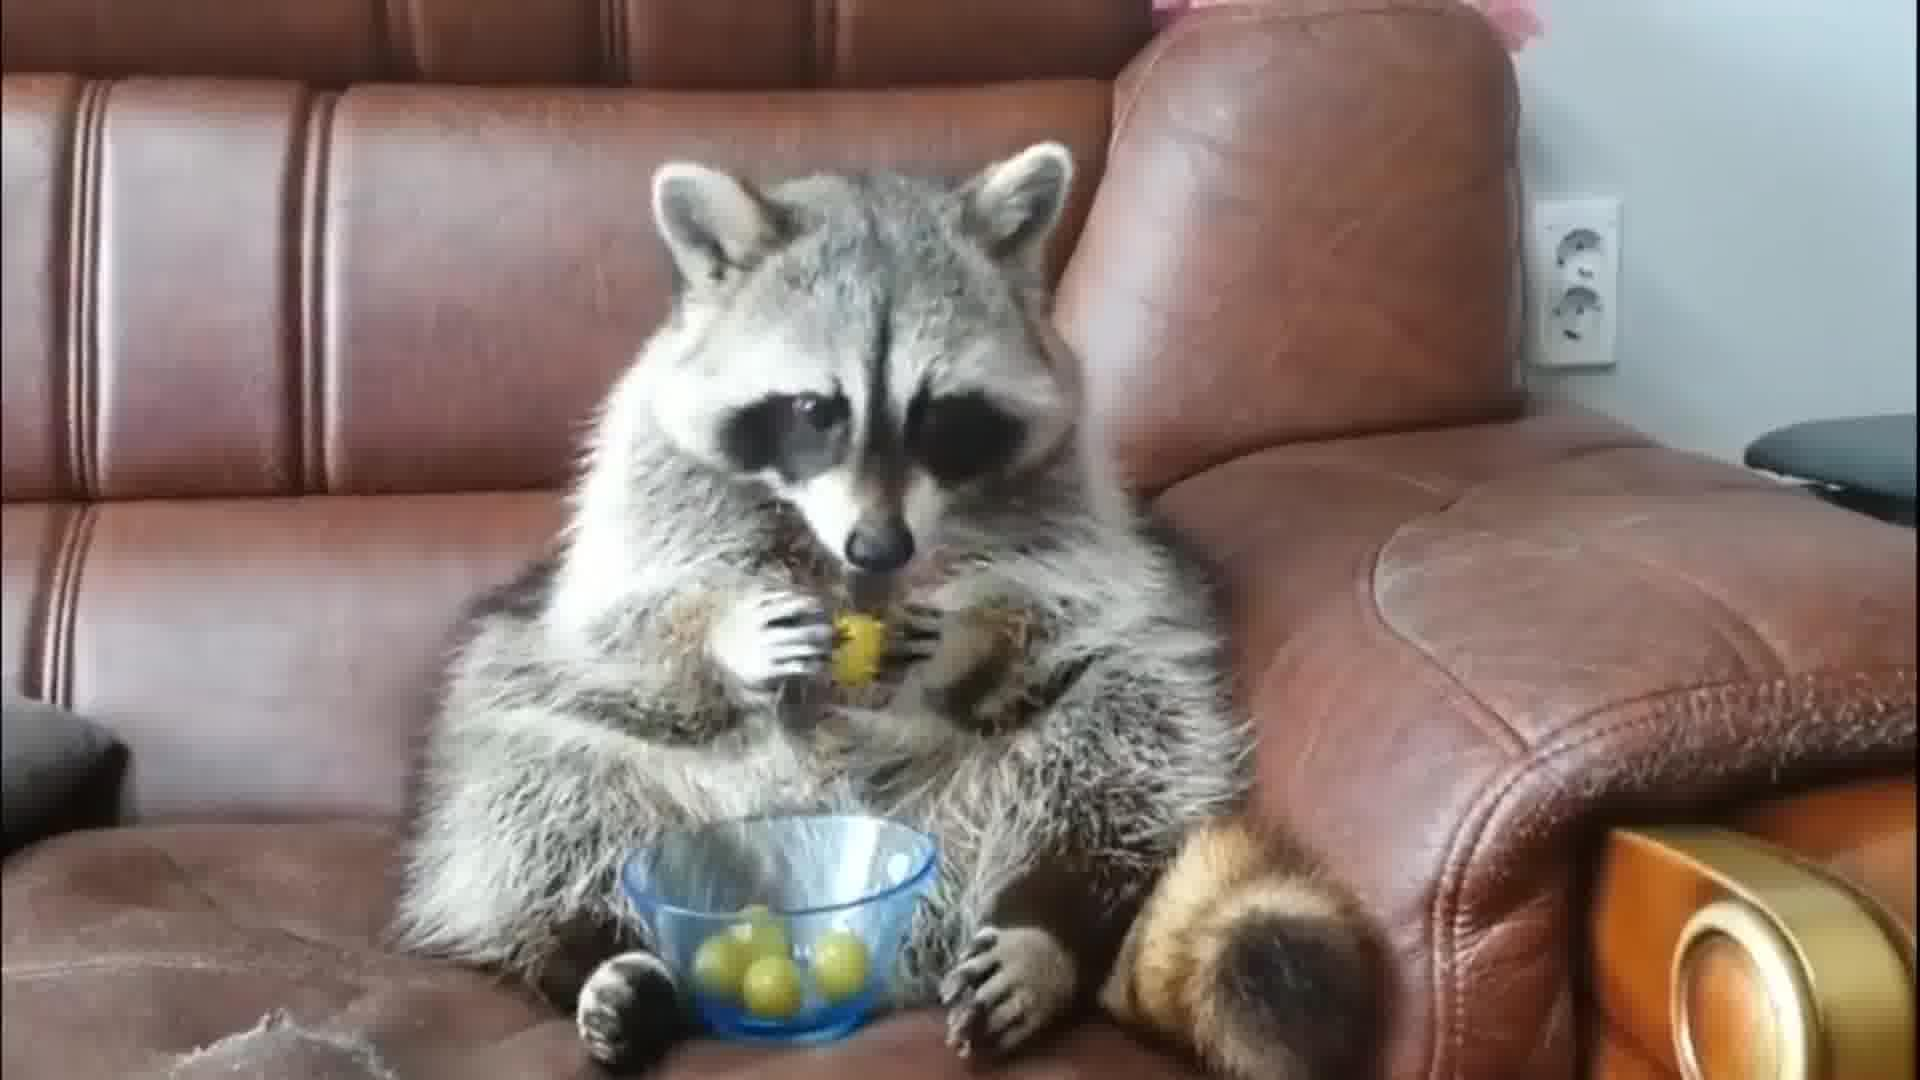raccoon: (387, 140, 1381, 1080)
